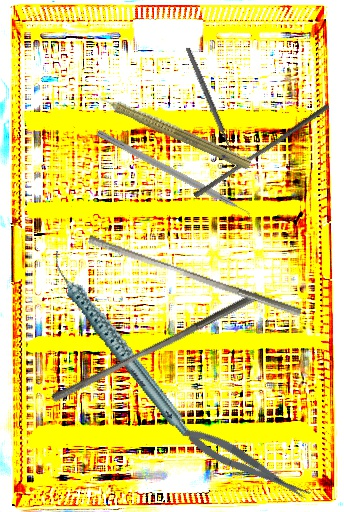Chopper: (91, 129, 261, 230)
Handpiece: (48, 231, 191, 457), (83, 81, 255, 174)
Hook Surgical: (183, 43, 247, 173)
Micro Scissor: (179, 420, 314, 510)
Pusher: (49, 282, 261, 412), (85, 234, 305, 317), (192, 98, 331, 204)
